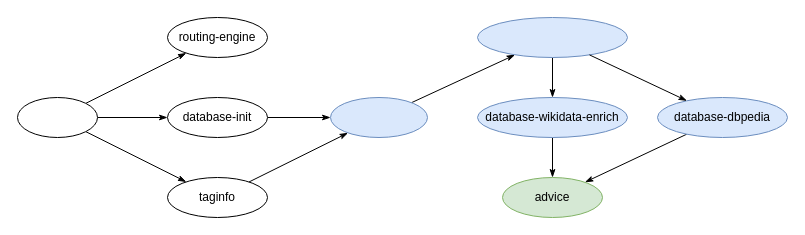
Some shapes in this 805 by 235 pixel diagram are drawn without their labels. The centre of each missing label's shape, as x and y in pixels:
"database-osm" goes at (379,117).
"database-wikidata-create" goes at (552,37).
"init" goes at (57,117).
